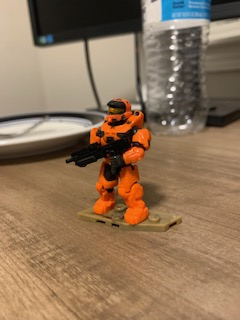rifle: (64, 137, 131, 169)
spartan: (86, 96, 156, 228)
